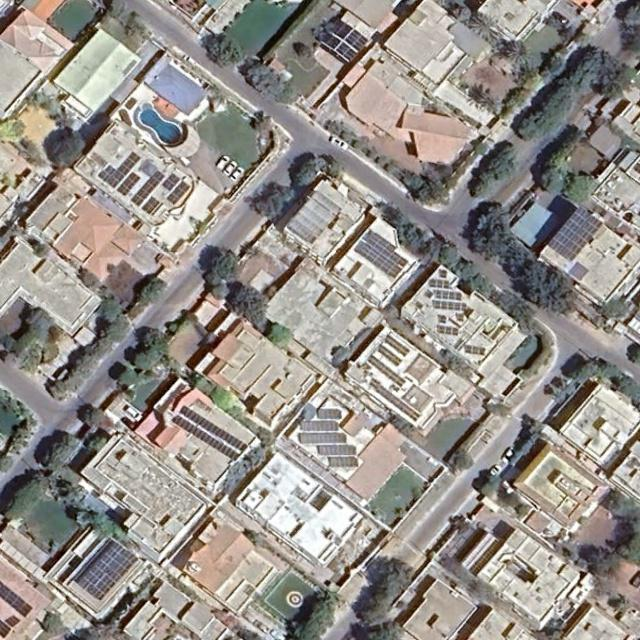solar panel: (73, 534, 137, 601), (179, 405, 249, 455), (546, 203, 603, 262), (172, 416, 242, 463), (352, 228, 413, 280), (369, 378, 420, 421), (96, 145, 140, 189), (131, 166, 166, 205), (366, 355, 406, 388), (0, 582, 32, 617), (382, 333, 411, 358), (376, 342, 404, 367), (166, 180, 191, 206), (116, 170, 140, 197), (344, 28, 369, 52), (299, 433, 348, 444), (568, 259, 591, 282), (328, 18, 352, 40), (302, 419, 342, 431), (432, 299, 468, 312), (161, 171, 180, 194), (320, 32, 343, 51), (315, 445, 357, 455), (338, 41, 358, 61), (314, 408, 343, 420), (143, 195, 160, 214), (330, 455, 359, 466), (428, 277, 452, 290), (464, 344, 487, 357), (435, 291, 463, 301), (437, 326, 459, 336), (8, 614, 21, 627)
